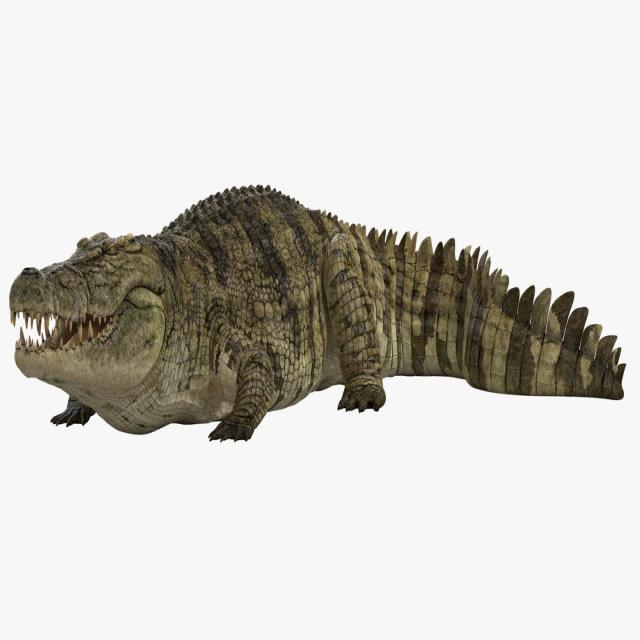crocodile: (0, 148, 634, 481)
